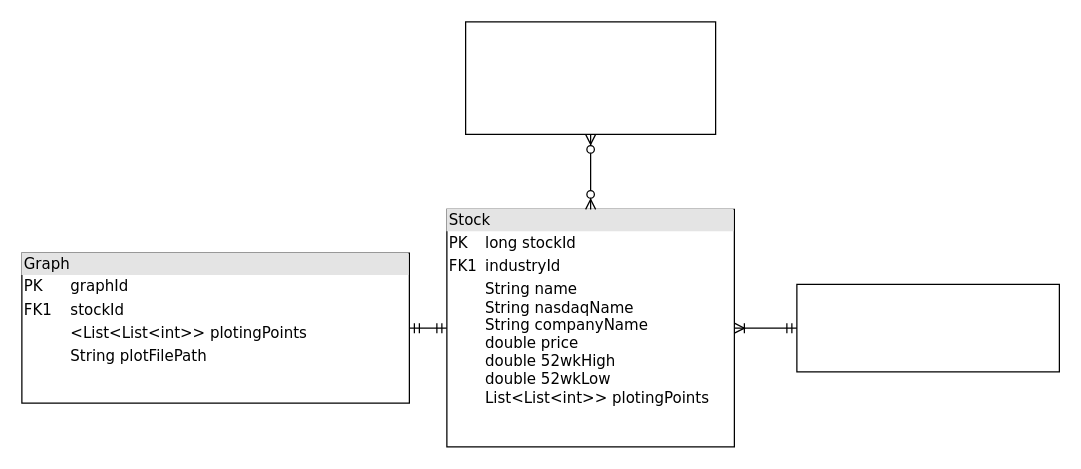
The diagram is 1081 pixels wide and 469 high, and some of its shapes have lost their labels. Each missing label, with the centre of its shape:
"Industry PK long industryId String name" belongs at (x=927, y=327).
"User PK long userId List<Stock> favorites String name List<Industry> preferred" belongs at (x=590, y=77).
